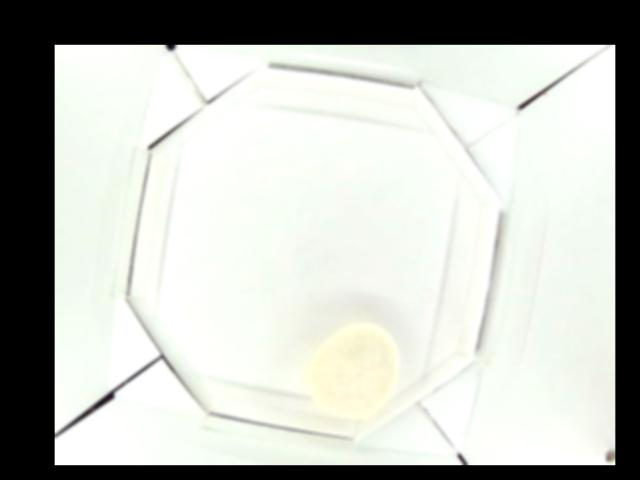Mooli: (306, 322, 399, 417)
